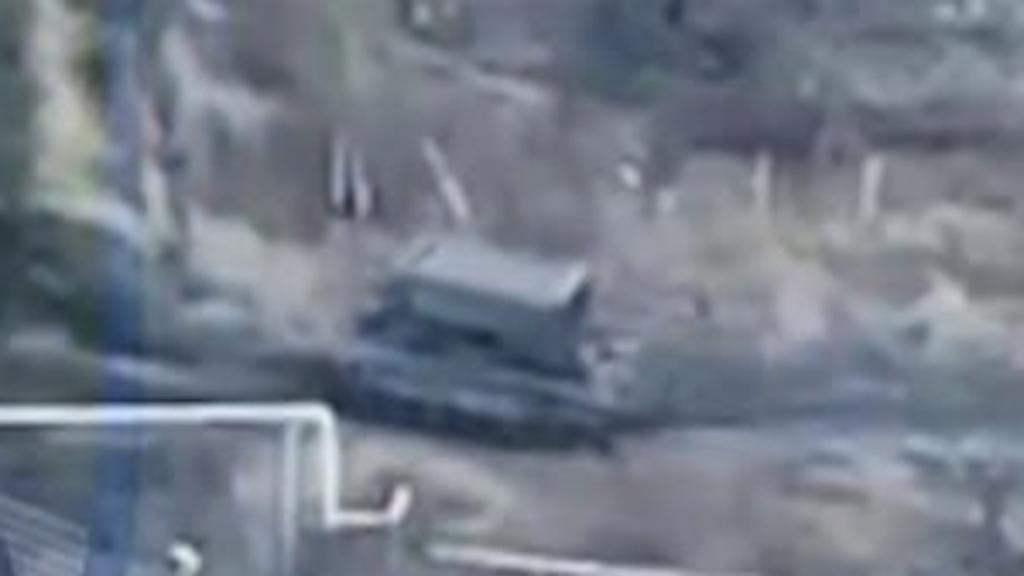MLRS: (318, 235, 648, 452)
